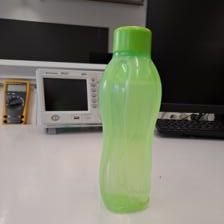bottle: (95, 26, 164, 211)
